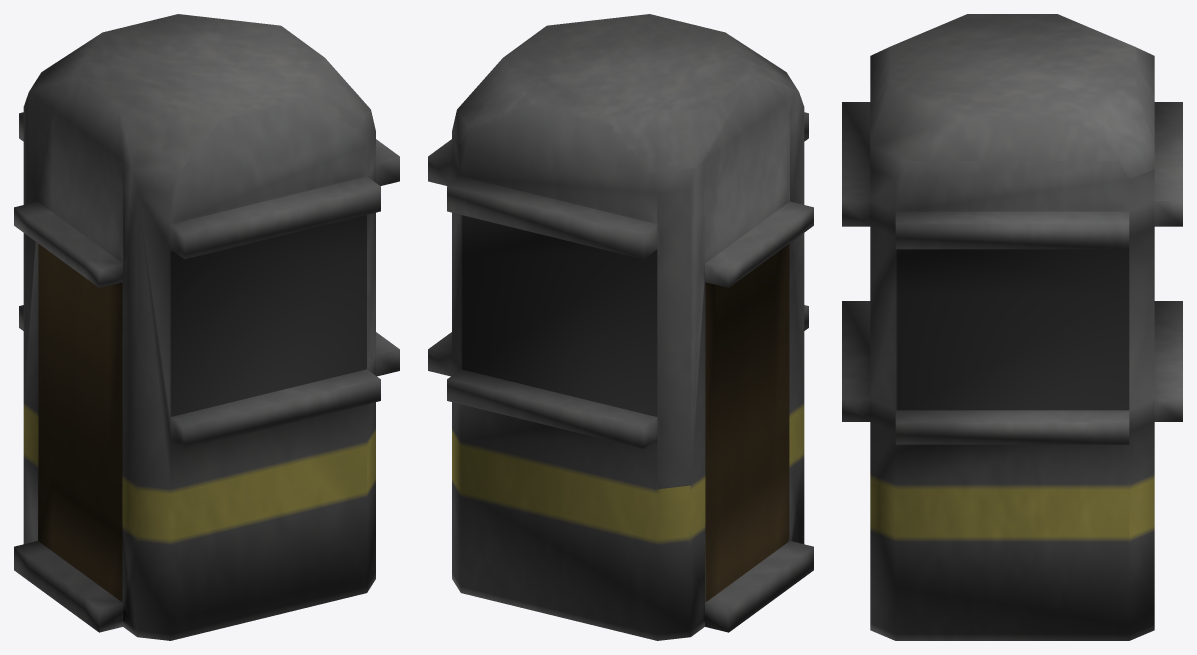
Rendered from guard_house.fbx.
3 renders of one model, left to right at view 1: azimuth 30°, elevation 25°; view 2: azimuth 150°, elevation 25°; view 3: azimuth 270°, elevation 25°, orthographic. The views are drawn at different scales.
Parts seen in each view (by area): view 1: Cube; view 2: Cube; view 3: Cube.
Boxes of the visible parts, x1,y1,x2,y2 form: Cube: (14,14,399,640); Cube: (428,14,813,640); Cube: (842,14,1182,640).
Size of the model in its own units: 0.1955 by 0.3258 by 0.1955.
Materials: 1 (1 with a texture image).
